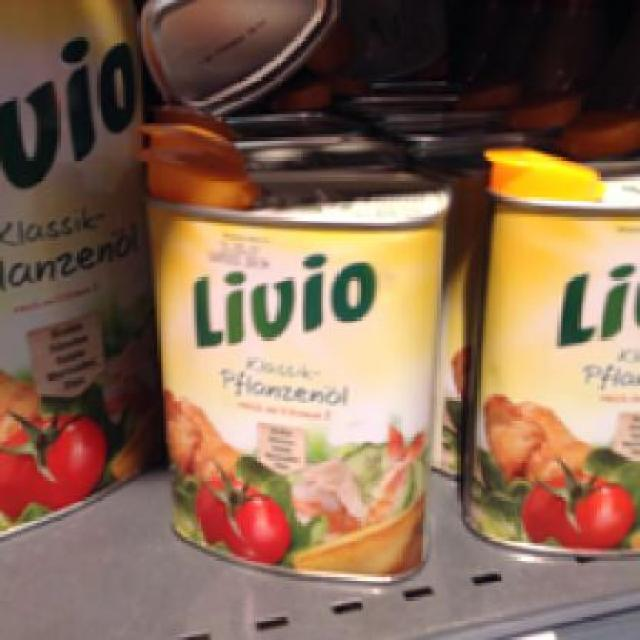Oil: (133, 134, 450, 577), (462, 146, 638, 552)
